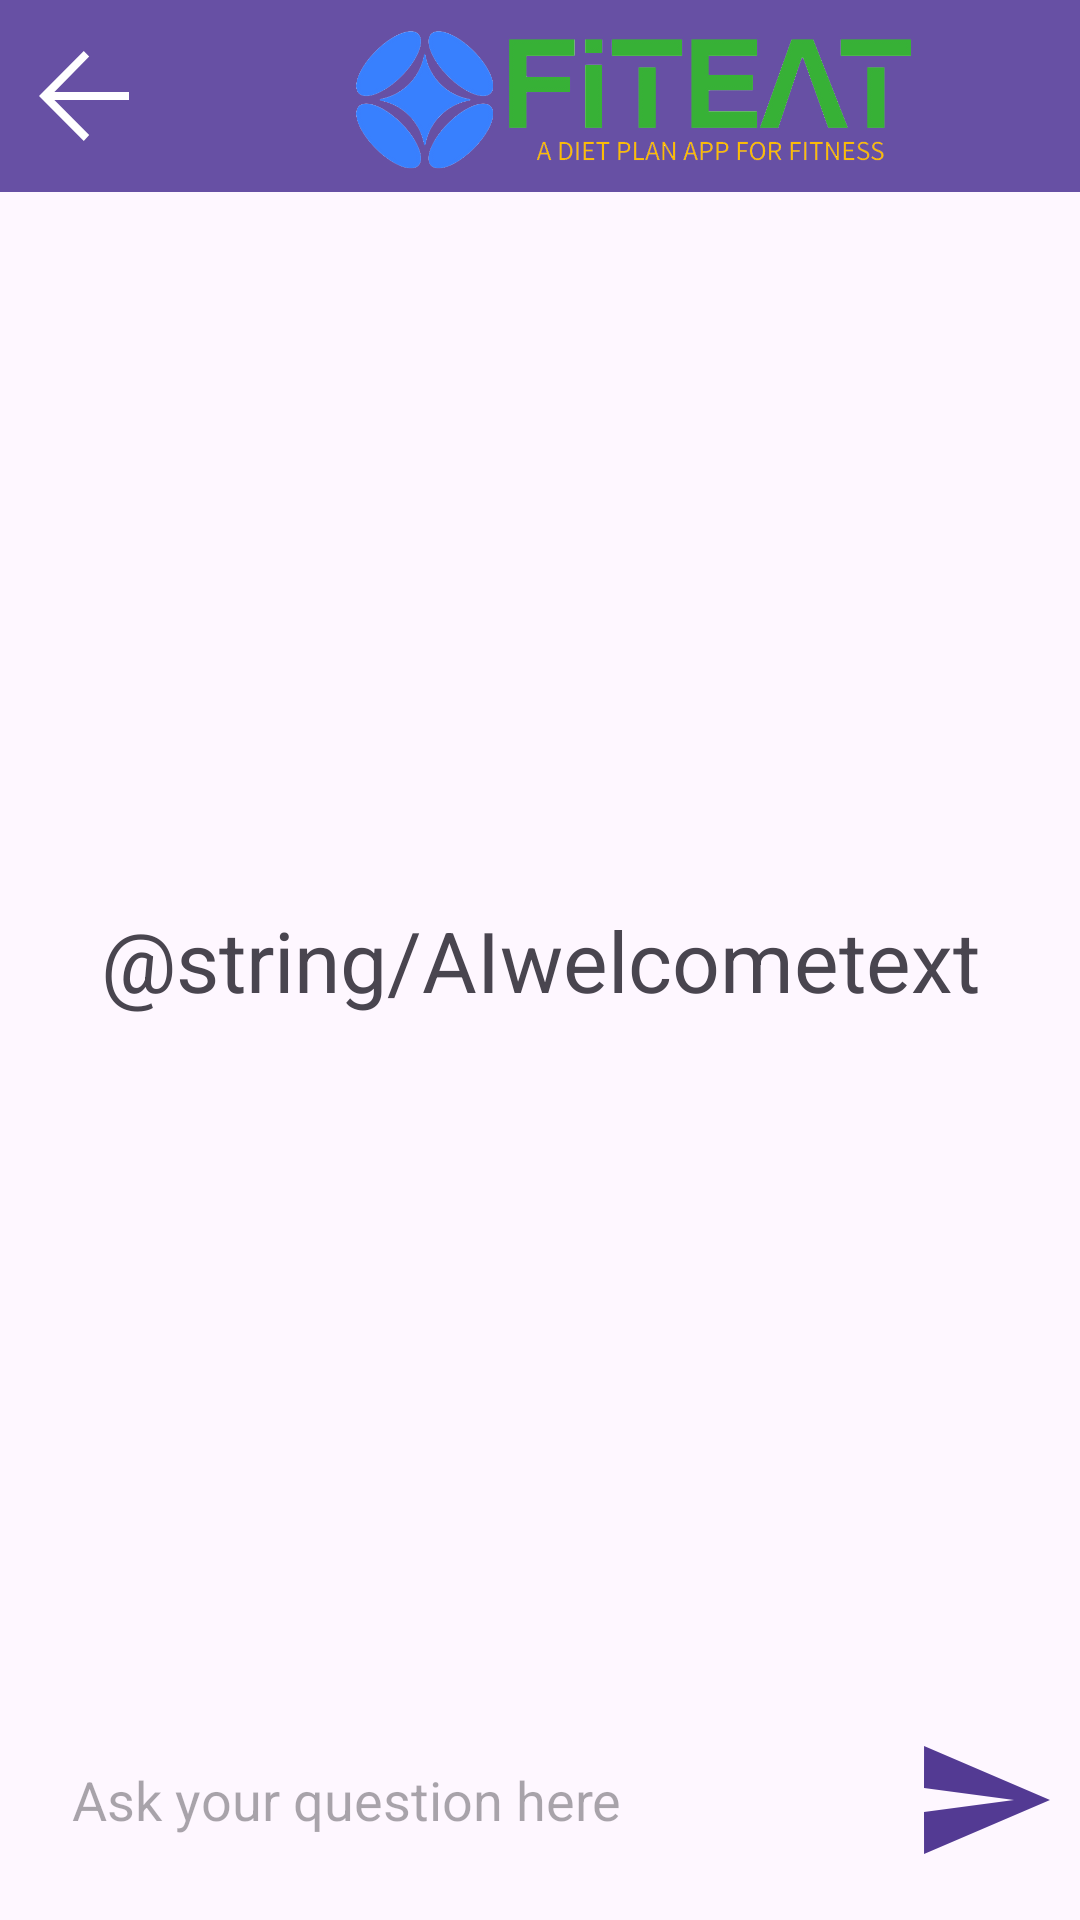

Icon bounding boxes for this 1080 × 1920 phone screenshot, format (x1, y1, x2, y2):
send: (924, 1746, 1050, 1854)
